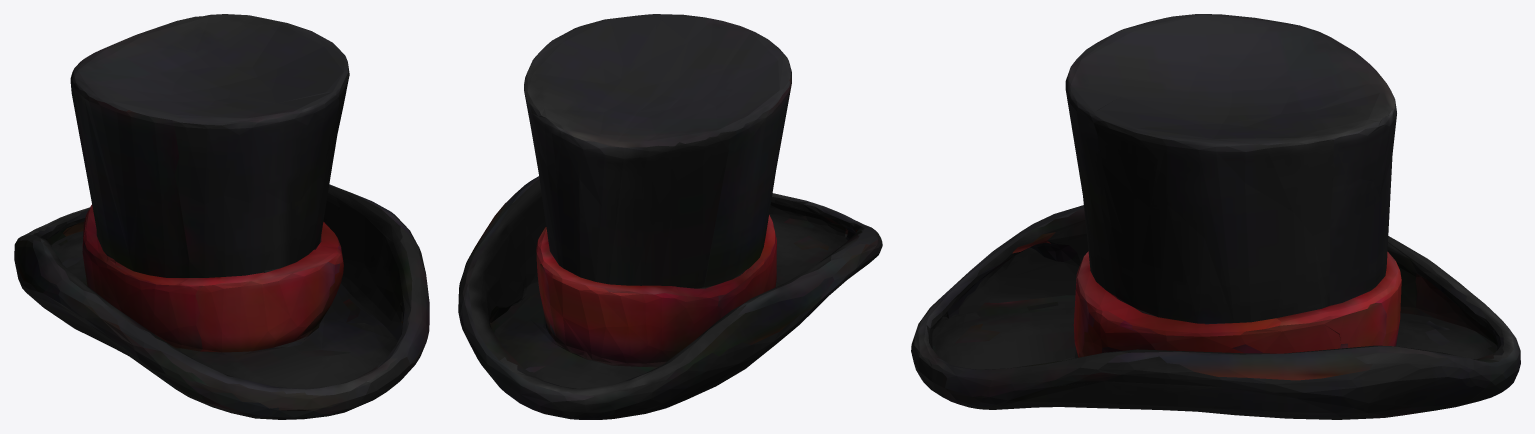
Rendered from tophat.glb.
3 renders of one model, left to right at view 1: azimuth 30°, elevation 25°; view 2: azimuth 150°, elevation 25°; view 3: azimuth 270°, elevation 25°, orthographic. The views are drawn at different scales.
Parts seen in each view (by area): view 1: geometry_0; view 2: geometry_0; view 3: geometry_0.
Part boxes in pixels (x1,y1,x2,y2): geometry_0: (14,14,429,419); geometry_0: (458,14,882,419); geometry_0: (911,14,1520,419).
Size of the model in its own units: 0.524 by 0.3961 by 0.72.
Materials: 1 (1 with a texture image).
